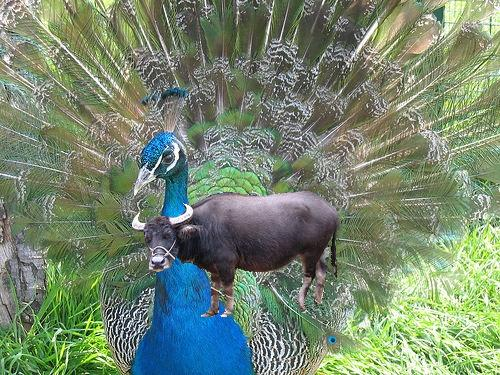tampered: (133, 192, 340, 317)
